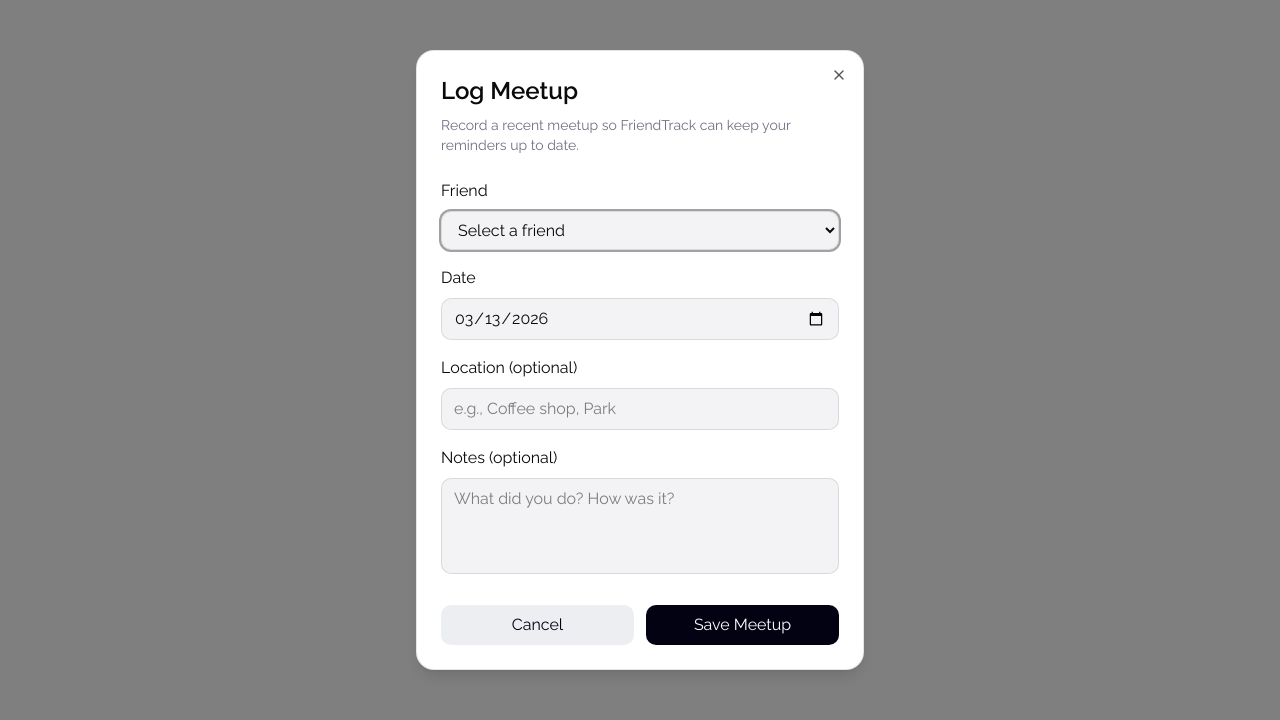
Test: LogMeetupDialog › shows validation error when friend is not selected
The width and height of the screenshot is (1280, 720).
Step 1. Click the button "Save Meetup" → (742,625), box [646,605,839,645]
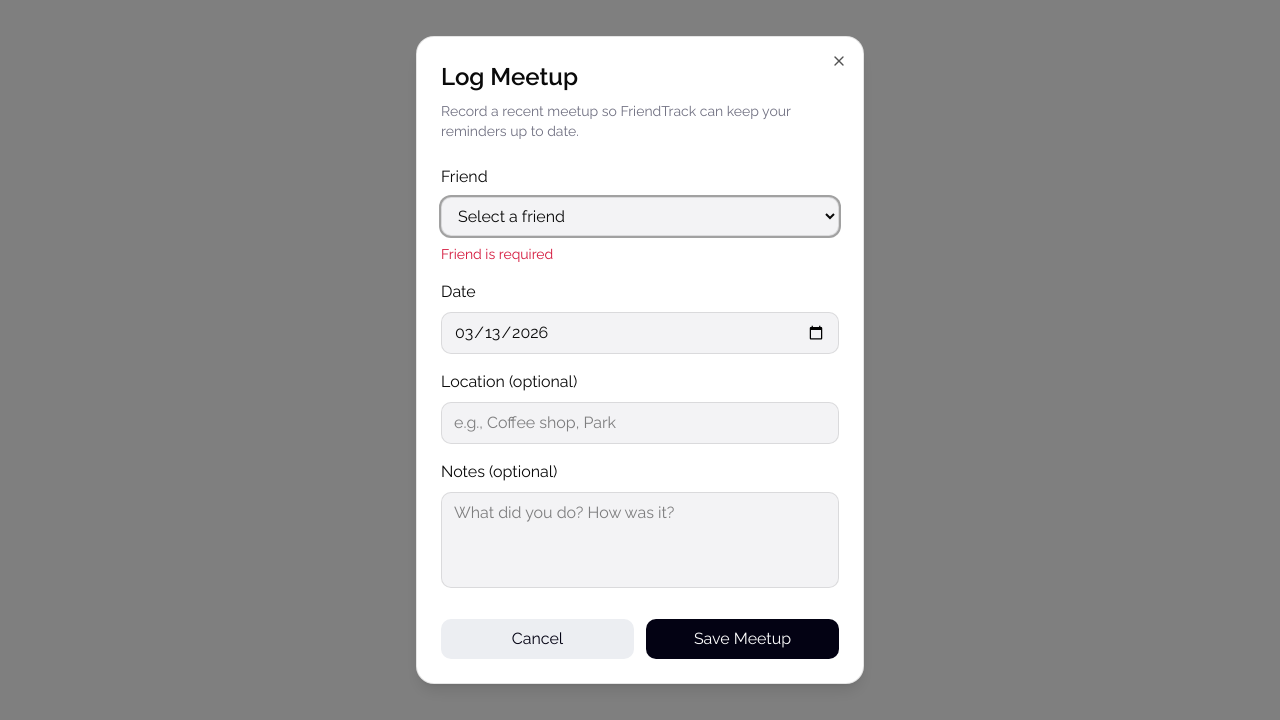
Expected: the text "Friend is required" is shown, [441,246,553,262]
